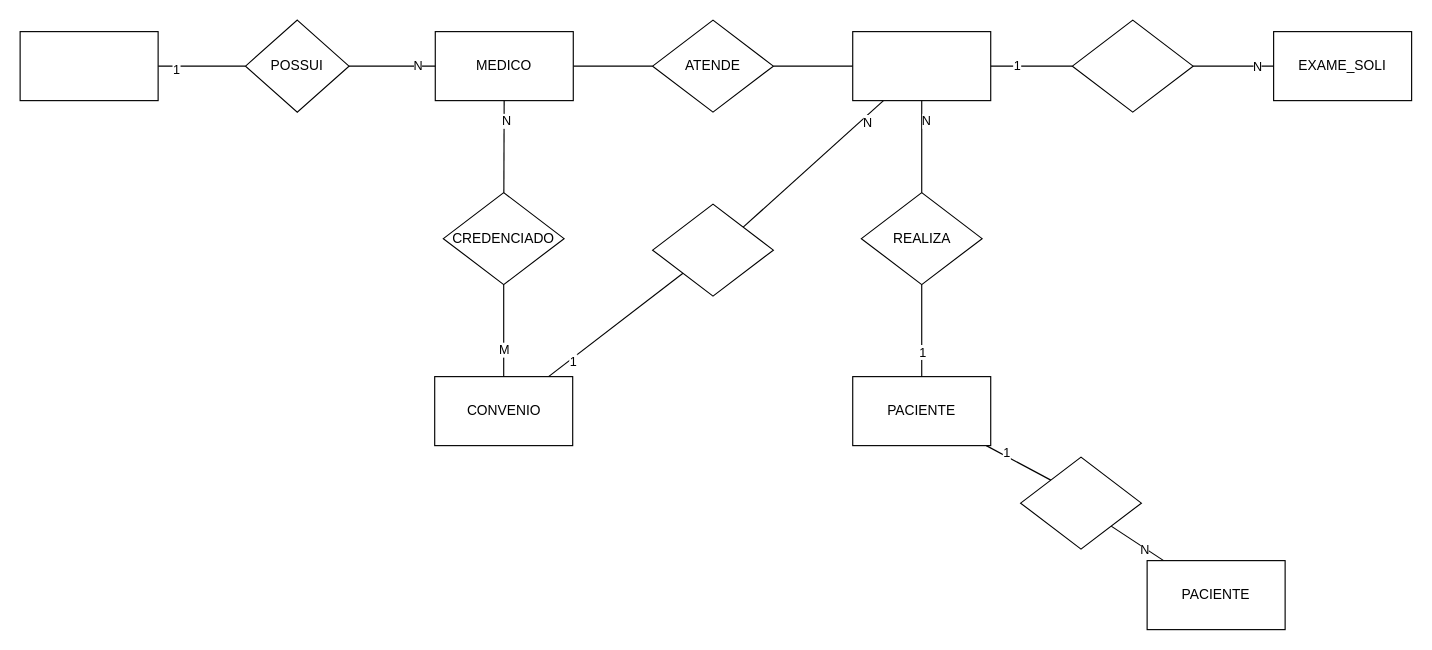
This 1432x650 diagram has some shape labels left out. Each missing label, with the centre of its shape:
CONSULTA: the point at 921,65
DEPENDE DE...: the point at 1080,502
ESPECIALIDADE: the point at 88,65
PAGA: the point at 712,249
SOLICITA: the point at 1132,65
